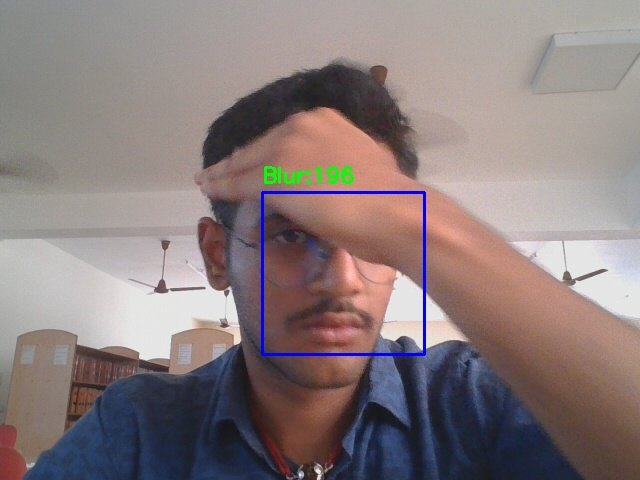real: (262, 192, 424, 354)
